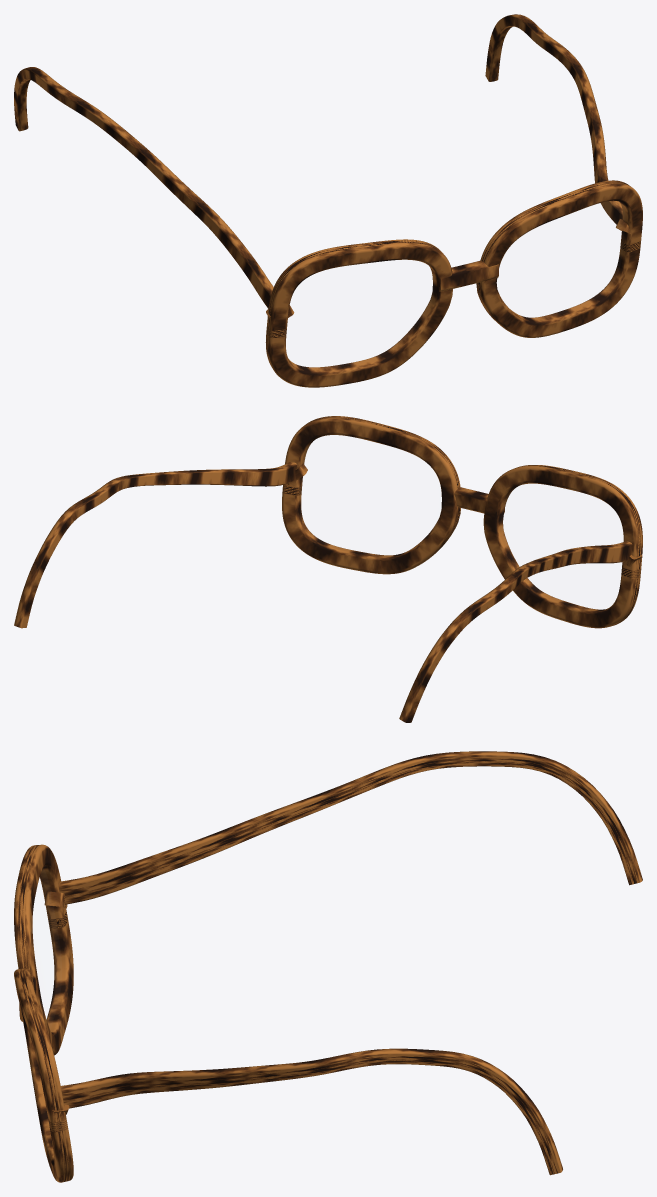
File: glasses-acetate.glb
3 views of the same model, one above another, from view 1: azimuth 30°, elevation 25°; view 2: azimuth 150°, elevation 25°; view 3: azimuth 270°, elevation 25° (orthographic). The views are drawn at different scales.
Parts seen in each view (by area): view 1: frame; view 2: frame; view 3: frame.
Boxes of the visible parts, x1=… form: frame: x1=14, y1=14, x2=642, y2=387; frame: x1=14, y1=416, x2=642, y2=722; frame: x1=14, y1=751, x2=642, y2=1182.
Size of the model in its own units: 0.9617 by 0.3681 by 0.9352.
2 materials, 1 textured.
